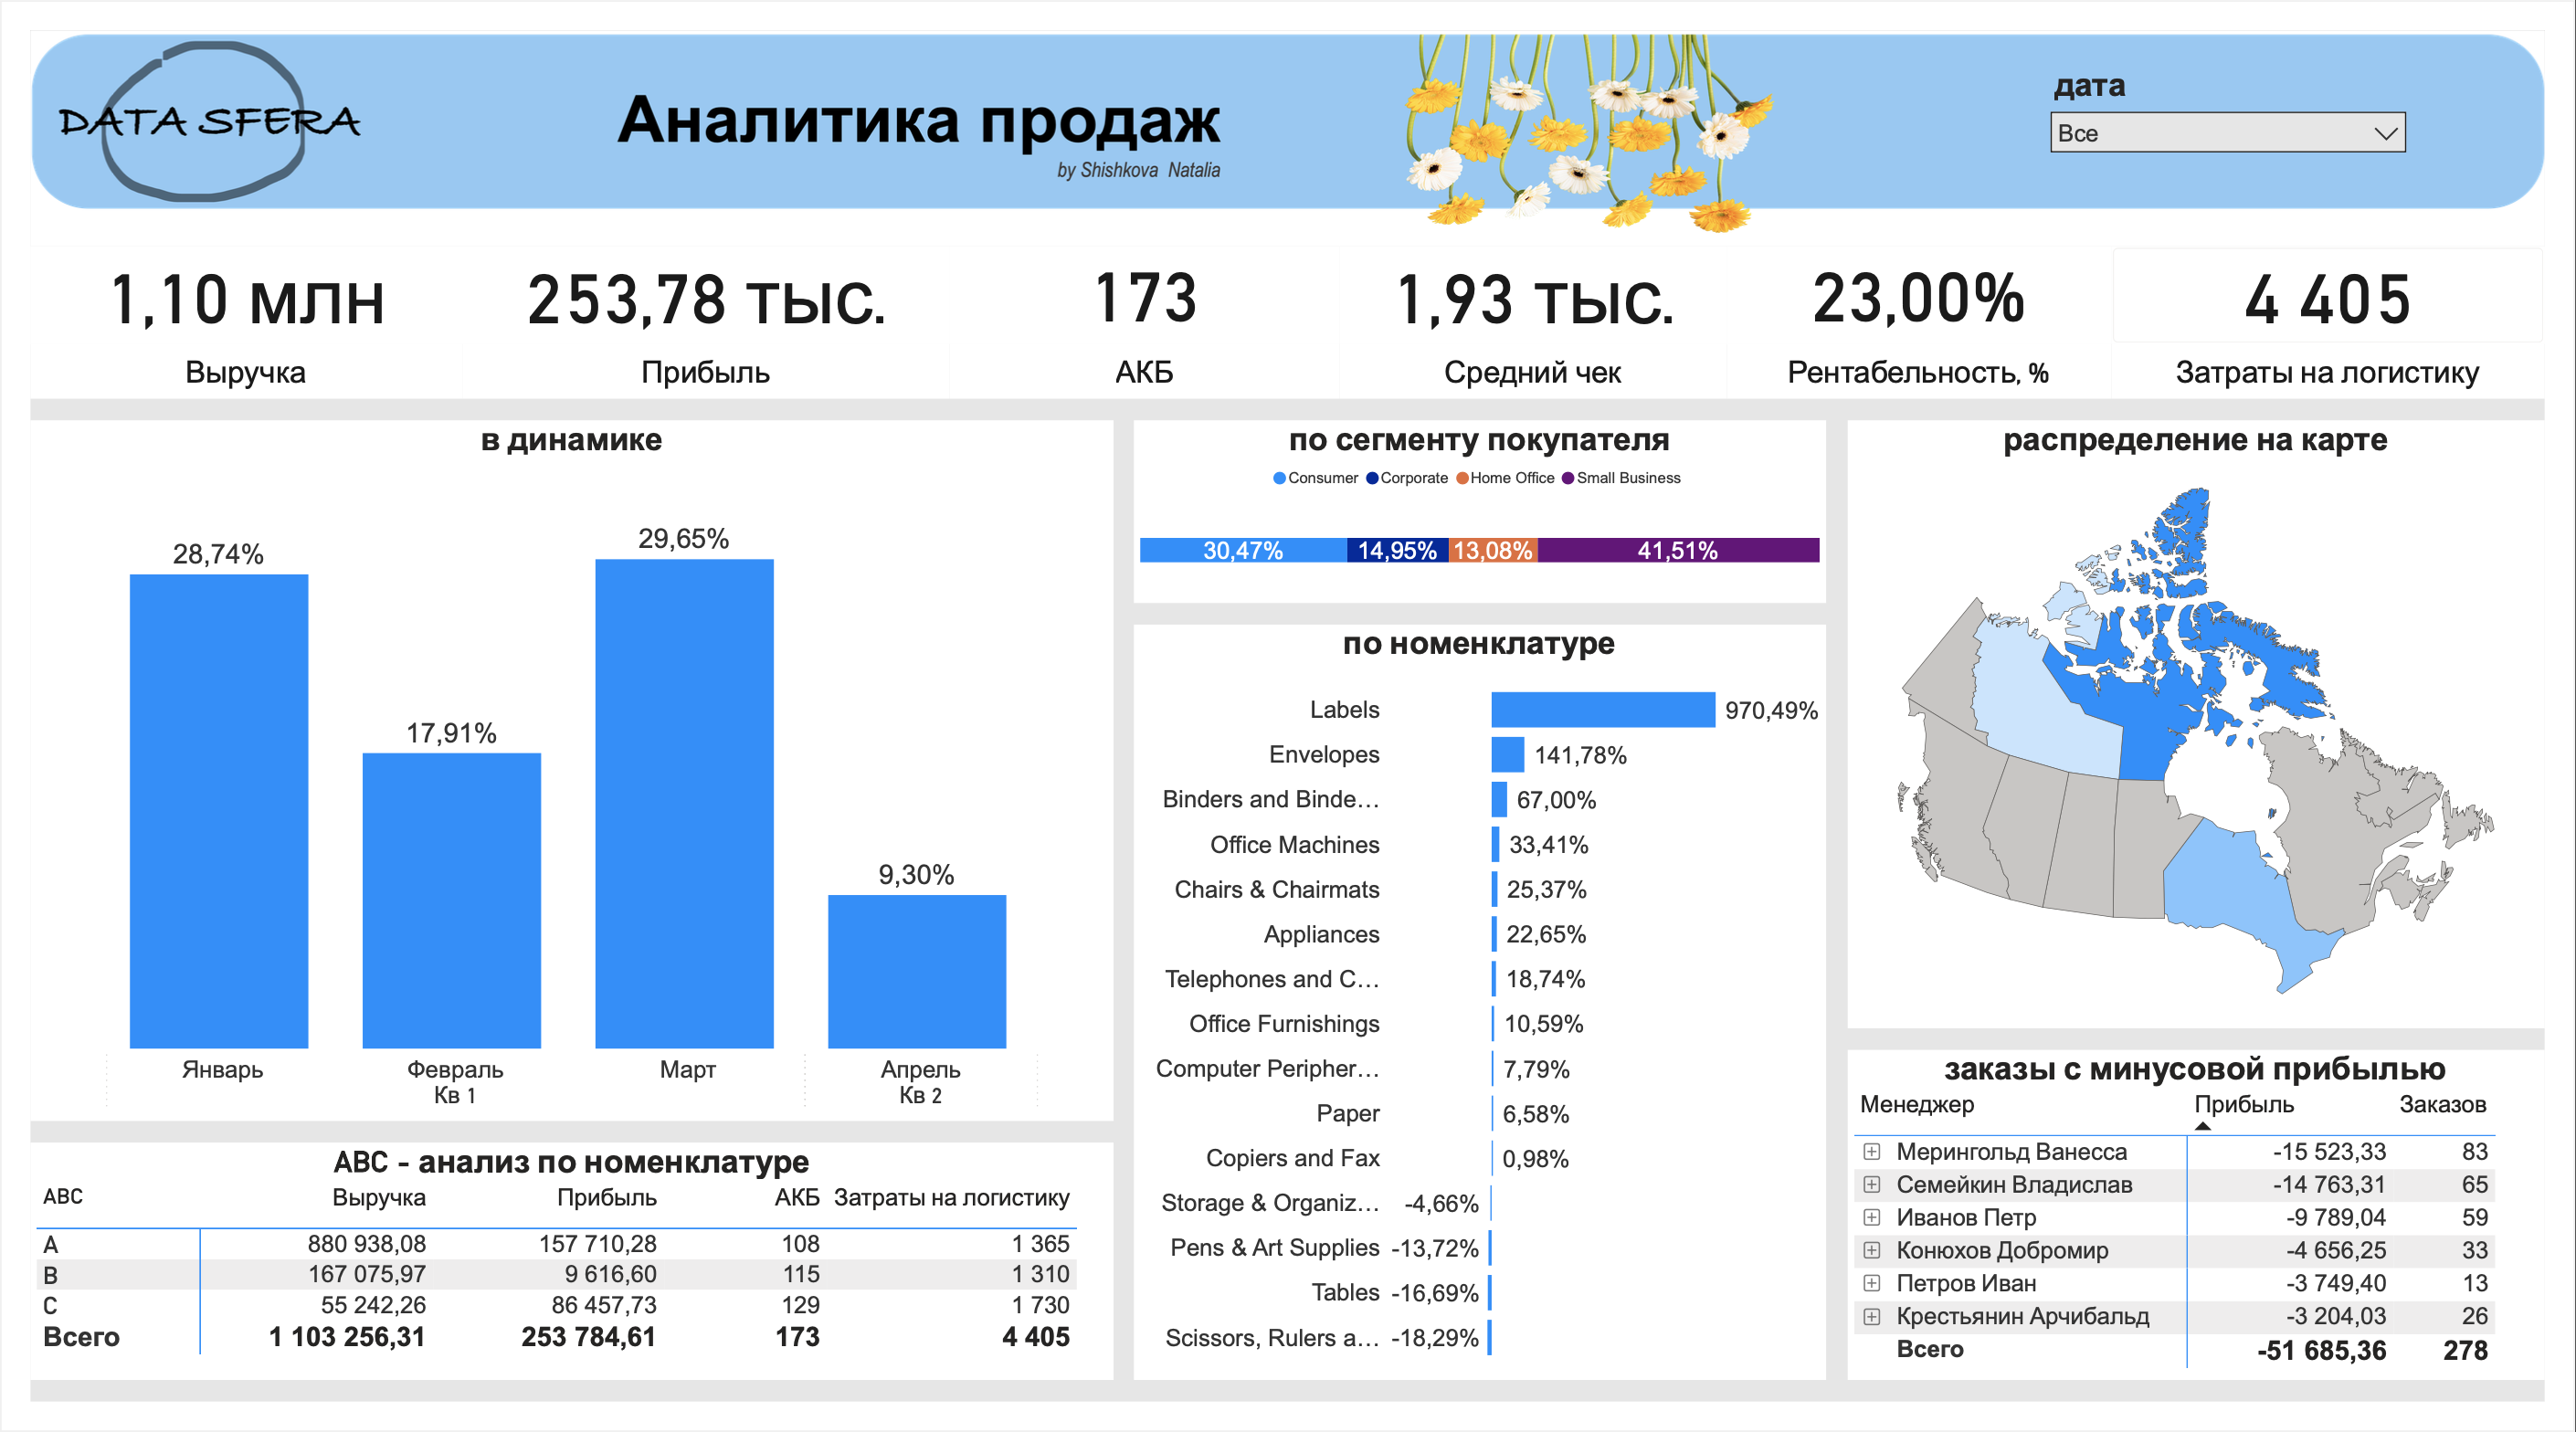

The page's visual inventory and layout, read from the dashboard file:
{"tool":"powerbi","page":{"name":"Dashboard_DataSfera","canvas":[1980,1080],"ordinal":0},"visuals":[{"type":"image","box":[0,0,1980,170],"z":0},{"type":"cardVisual","fields":{"Data":["Продажи.Выручка"]},"box":[0,170,340,77.1],"z":1000},{"type":"cardVisual","fields":{"Data":["Продажи.Прибыль"]},"box":[340,170,384.3,77.1],"z":2000},{"type":"cardVisual","fields":{"Data":["Продажи.АКБ"]},"box":[724.3,170,307.1,77.1],"z":3000},{"type":"cardVisual","fields":{"Data":["Продажи.Средний чек"]},"box":[1031.4,170,304.3,77.1],"z":4000},{"type":"cardVisual","fields":{"Data":["Продажи.Рентабельность"]},"box":[1335.7,170,302.9,77.1],"z":5000},{"type":"cardVisual","fields":{"Data":["Продажи.Затраты на логистику_"]},"box":[1638.6,170,341.4,77.1],"z":6000},{"type":"columnChart","title":"в динамике","fields":{"Category":["Календарь.Квартал","Календарь.Месяц"],"Y":["Продажи.Рентабельность"]},"box":[0,307,853,552],"z":7000},{"type":"shapeMap","title":"распределение на карте","fields":{"Category":["Продажи.Регион"],"Value":["Продажи.Рентабельность"]},"box":[1431,307,549,479],"z":8000},{"type":"pivotTable","title":"заказы с минусовой прибылью","fields":{"Rows":["СПР_Менеджеры.Менеджер","Продажи.Order_ID"],"Values":["Продажи.Прибыль","Продажи.Заказов"]},"box":[1431,803,549,260],"z":9000},{"type":"hundredPercentStackedBarChart","title":"по сегменту покупателя","fields":{"Y":["Продажи.Рентабельность"],"Series":["СПР_покупатели.Сегмент покупателя"]},"box":[869,307,545,144],"z":10000},{"type":"clusteredBarChart","title":"по номенклатуре","fields":{"Category":["СПР_продукты.Подкатегория продукта"],"Y":["Продажи.Рентабельность"]},"box":[869,468,545,595],"z":11000},{"type":"actionButton","box":[1638.6,247.1,341.4,42.9],"z":12000},{"type":"actionButton","box":[1335.7,247.1,302.9,42.9],"z":13000},{"type":"actionButton","box":[1031.4,247.1,304.3,42.9],"z":14000},{"type":"actionButton","box":[724.3,247.1,307.1,42.9],"z":15000},{"type":"actionButton","box":[340,247.1,384.3,42.9],"z":16000},{"type":"actionButton","box":[0,247.1,340,42.9],"z":17000},{"type":"pivotTable","title":"ABC - анализ по номенклатуре","fields":{"Rows":["ABC_таблица.ABC"],"Values":["Продажи.Выручка","Продажи.Прибыль","Продажи.АКБ","Продажи.Затраты на логистику"]},"box":[0,876,853,187],"z":19001},{"type":"slicer","fields":{"Values":["Календарь.Date.Изменение.Иерархия дат.Месяц","Календарь.Date.Изменение.Иерархия дат.День"]},"box":[1581.4,22.9,300,97.1],"z":19002}]}

Visuals, with their boxes in screenshot pixels (x1, y1, x2, y2), scaled from the page's 1980x1080 canvas onto the 2576x1432 screenshot:
image: <bbox>0, 0, 2575, 226</bbox>
cardVisual - Продажи.Выручка: <bbox>0, 226, 442, 328</bbox>
cardVisual - Продажи.Прибыль: <bbox>442, 226, 943, 328</bbox>
cardVisual - Продажи.АКБ: <bbox>943, 226, 1342, 328</bbox>
cardVisual - Продажи.Средний чек: <bbox>1342, 226, 1737, 328</bbox>
cardVisual - Продажи.Рентабельность: <bbox>1737, 226, 2132, 328</bbox>
cardVisual - Продажи.Затраты на логистику_: <bbox>2132, 226, 2575, 328</bbox>
"в динамике" columnChart: <bbox>0, 407, 1110, 1139</bbox>
"распределение на карте" shapeMap: <bbox>1862, 407, 2575, 1042</bbox>
"заказы с минусовой прибылью" pivotTable: <bbox>1862, 1065, 2575, 1409</bbox>
"по сегменту покупателя" hundredPercentStackedBarChart: <bbox>1131, 407, 1840, 598</bbox>
"по номенклатуре" clusteredBarChart: <bbox>1131, 620, 1840, 1409</bbox>
actionButton: <bbox>2132, 328, 2575, 384</bbox>
actionButton: <bbox>1737, 328, 2132, 384</bbox>
actionButton: <bbox>1342, 328, 1737, 384</bbox>
actionButton: <bbox>943, 328, 1342, 384</bbox>
actionButton: <bbox>442, 328, 943, 384</bbox>
actionButton: <bbox>0, 328, 442, 384</bbox>
"ABC - анализ по номенклатуре" pivotTable: <bbox>0, 1162, 1110, 1409</bbox>
slicer - Календарь.Date.Изменение.Иерархия дат.Месяц x Календарь.Date.Изменение.Иерархия дат.День: <bbox>2057, 30, 2448, 159</bbox>
